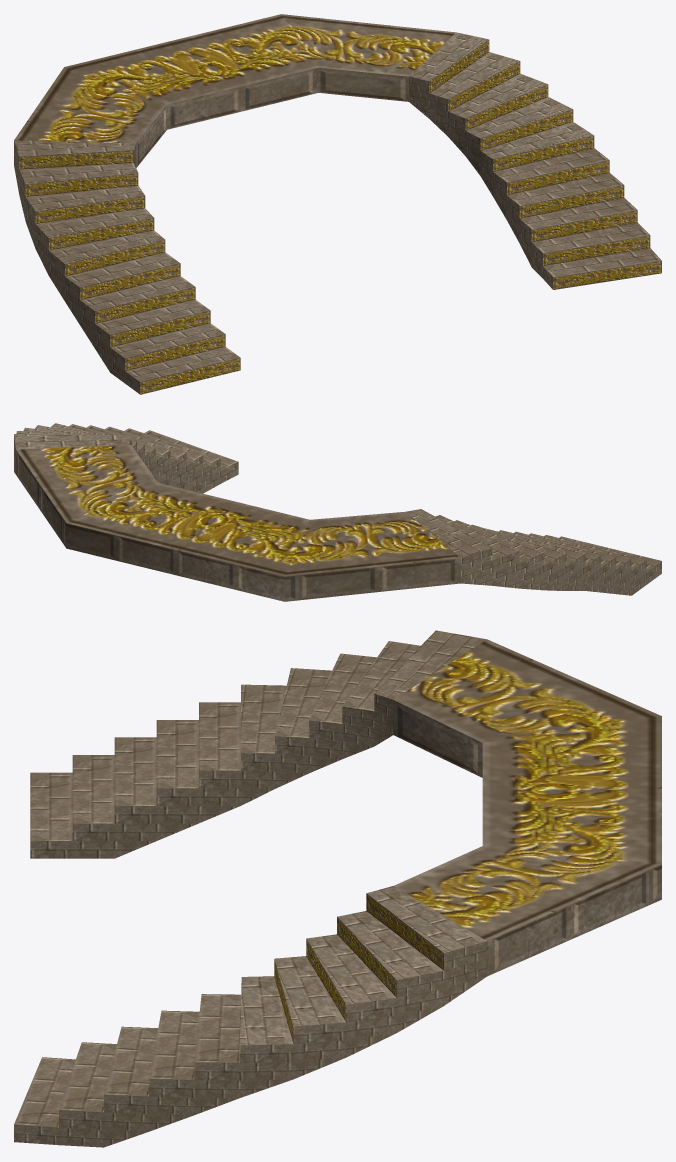
File: Roundstairs.fbx
3 renders of one model, top to bottom at view 1: azimuth 30°, elevation 25°; view 2: azimuth 150°, elevation 25°; view 3: azimuth 270°, elevation 25°, orthographic. The views are drawn at different scales.
Parts seen in each view (by area): view 1: roundStairs; view 2: roundStairs; view 3: roundStairs.
Boxes of the visible parts, bbox=[...] form: roundStairs: bbox=[14, 14, 661, 394]; roundStairs: bbox=[14, 423, 661, 601]; roundStairs: bbox=[14, 630, 661, 1147].
Size of the model in its own units: 1318 by 300 by 1000.
1 material, 1 textured.
